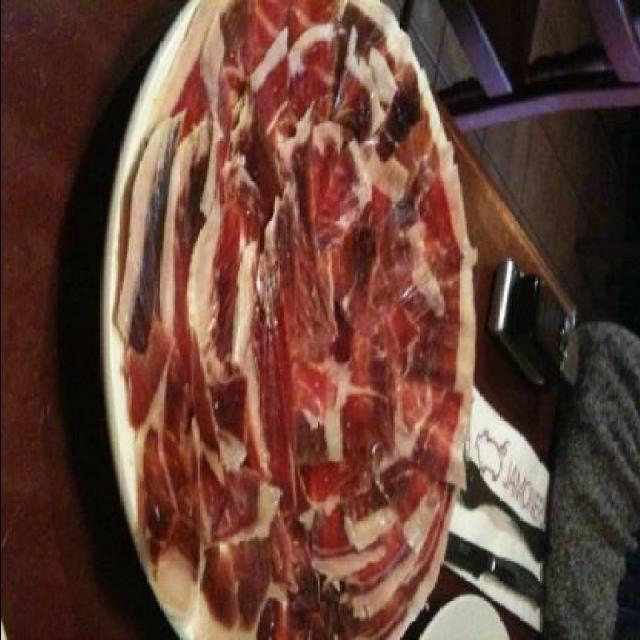Pizza: (106, 0, 486, 638)
